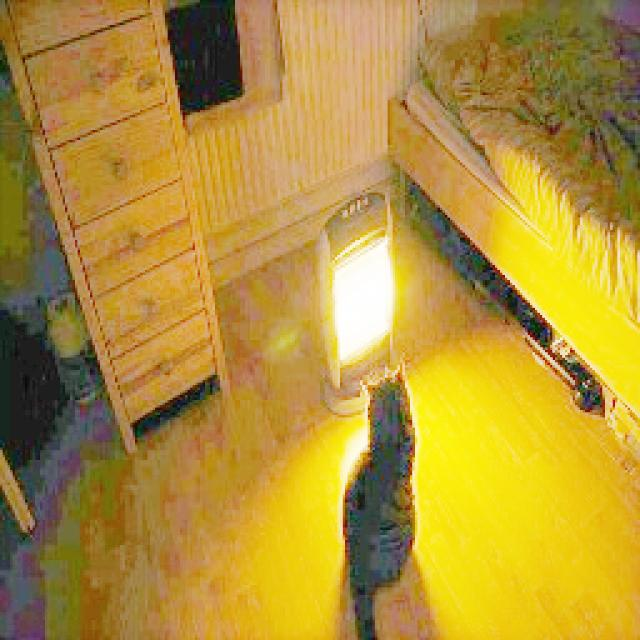cat: (338, 360, 422, 640)
